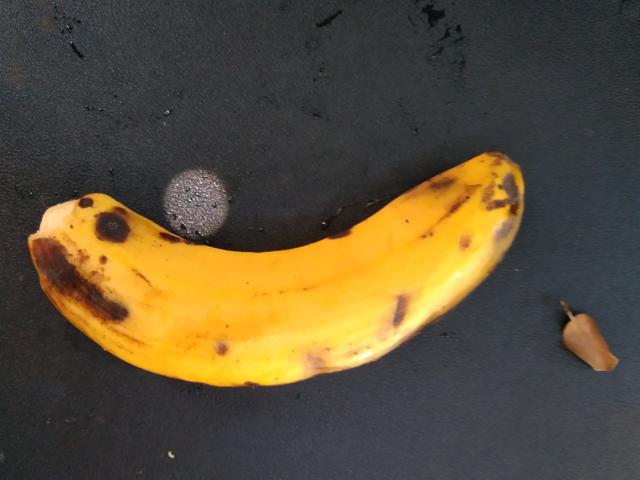overripe: (16, 135, 532, 428)
